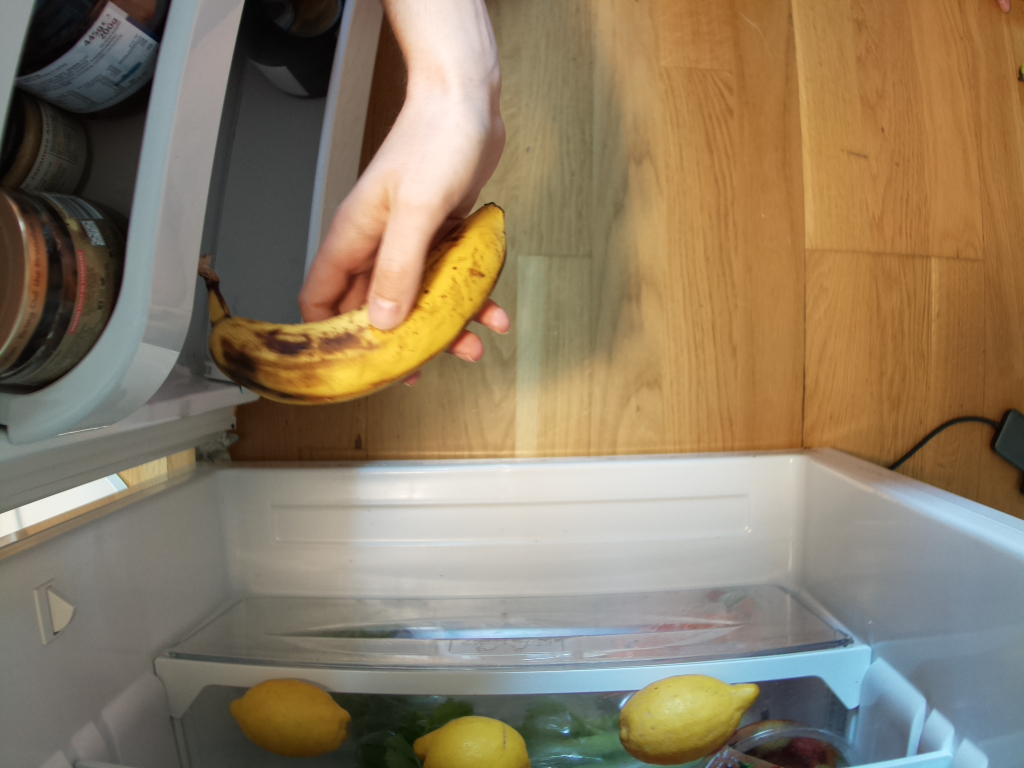banana-overripe: (203, 201, 512, 403)
